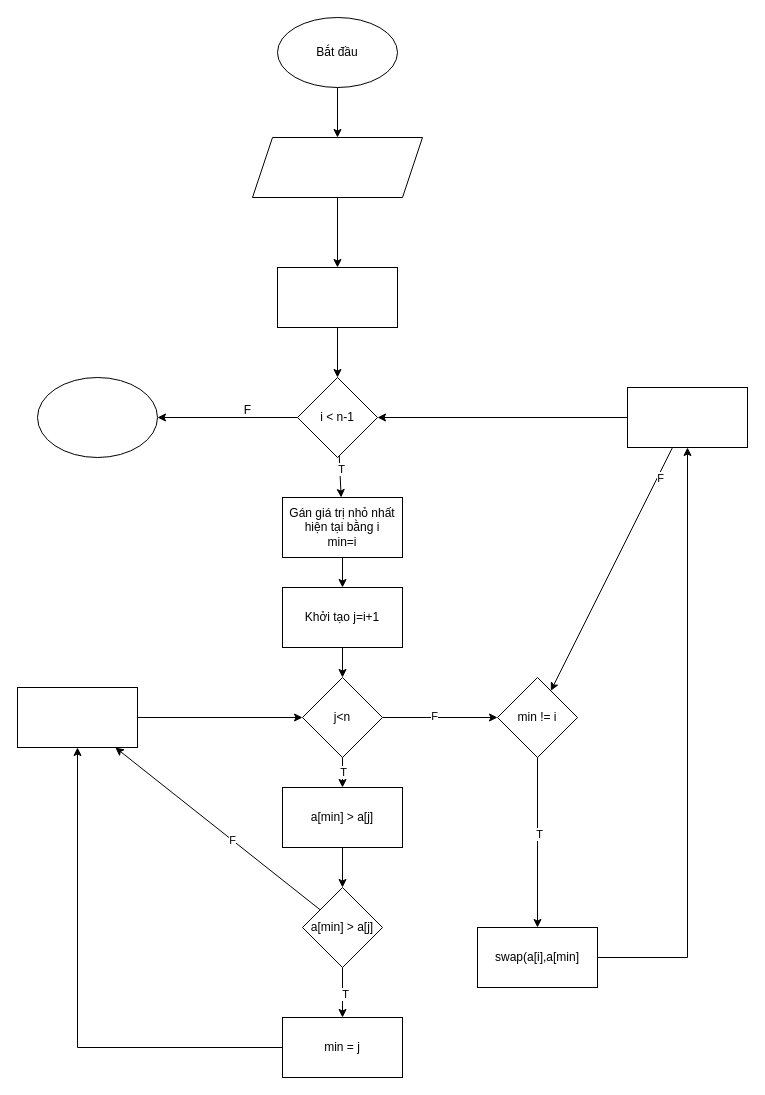
Some shapes in this 765 by 1095 pixel diagram are drawn without their labels. The centre of each missing label's shape, as x and y in pixels:
"i++" goes at point 687,417.
"j++" goes at point 77,717.
"Khởi tạo i=0" goes at point 337,297.
"Khởi tạo n bằng chiều dài mảng" goes at point 337,167.
"Kết thúc" goes at point 97,417.
